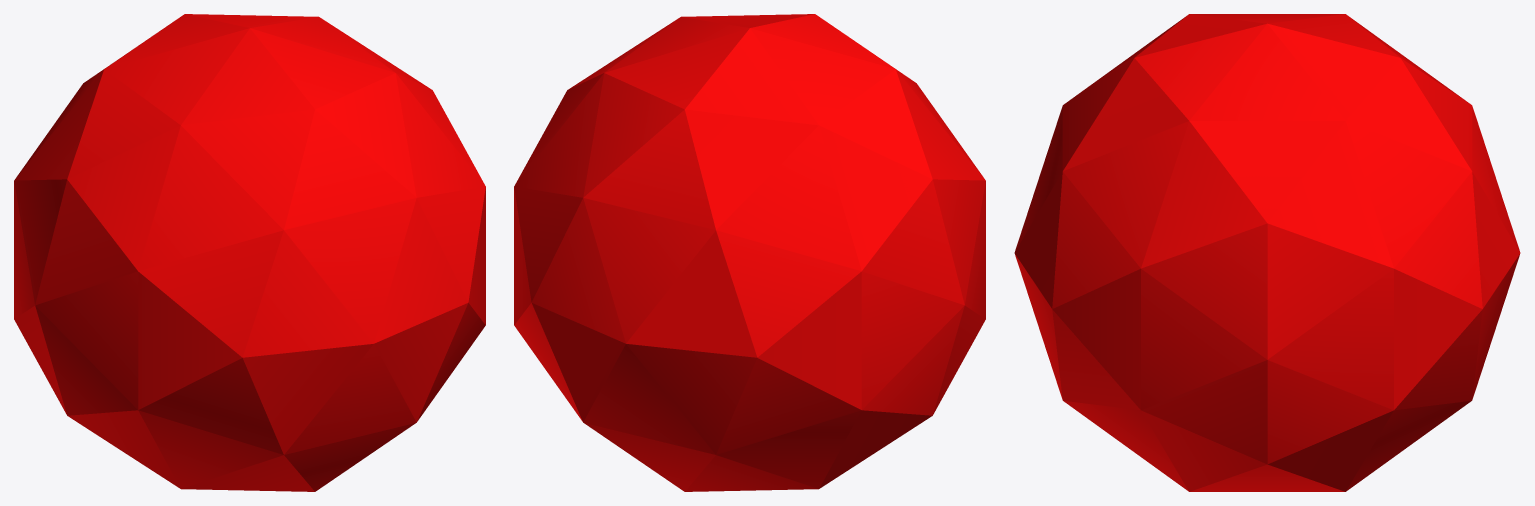
Rendered from core.obj.
3 views of the same model, side by side, from view 1: azimuth 30°, elevation 25°; view 2: azimuth 150°, elevation 25°; view 3: azimuth 270°, elevation 25° (orthographic).
Size of the model in its own units: 1 by 1 by 1.
